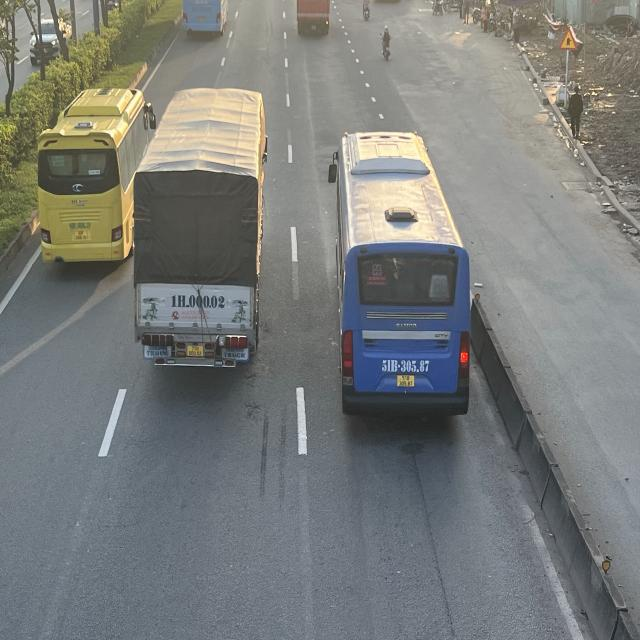coach: (332, 130, 474, 420), (35, 85, 158, 262), (183, 0, 232, 35)
truck: (136, 83, 274, 371)
